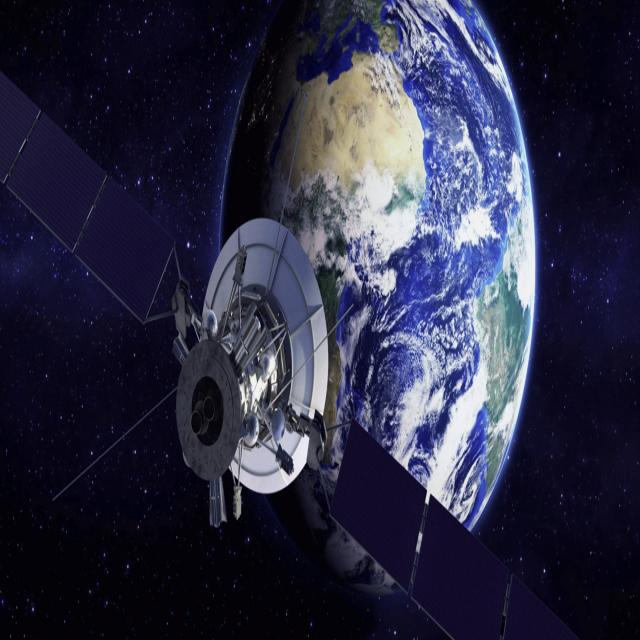satellite: (0, 49, 592, 640)
